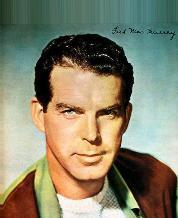face: (56, 102, 117, 165)
